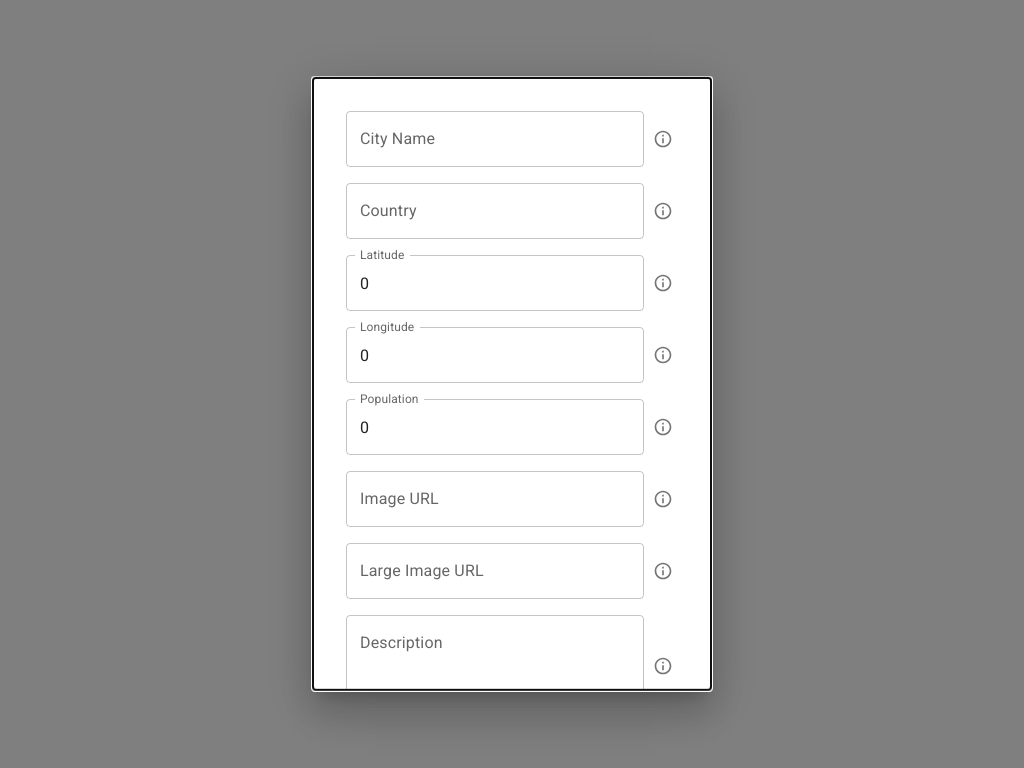
Test: CreateModal › opens PopOver when info icon is clicked
Click the button without text in the row of "City Name": (663,139) [648,124,678,154]
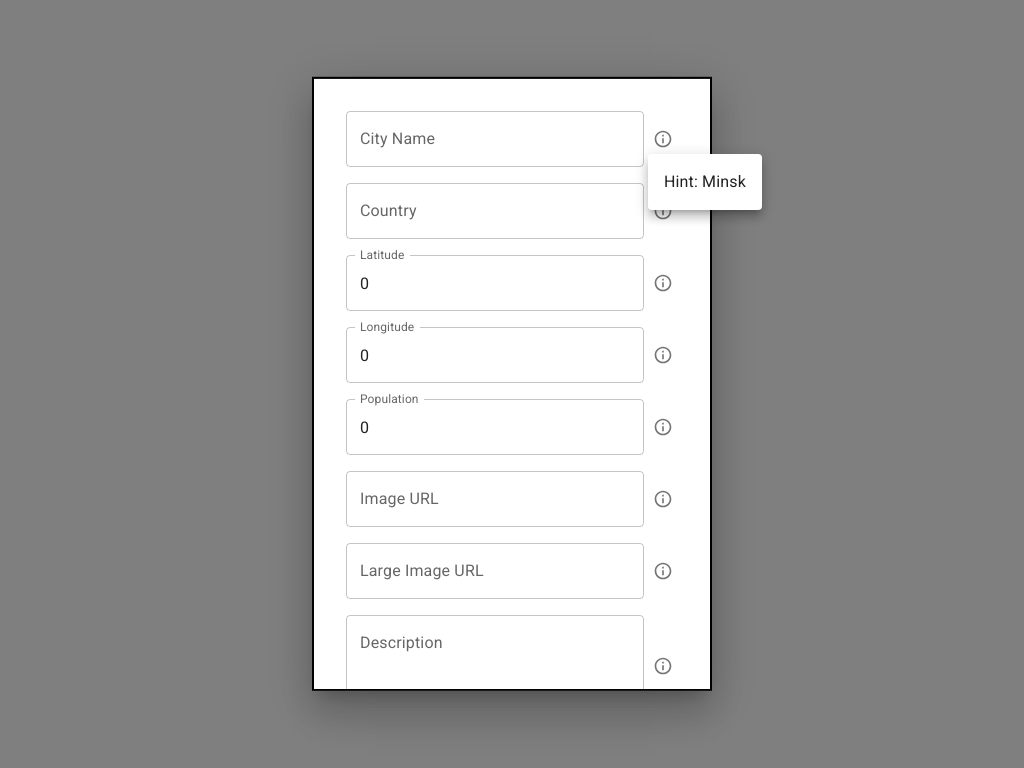
Result: the text "Hint: Minsk" is shown at [664,172,746,191]
